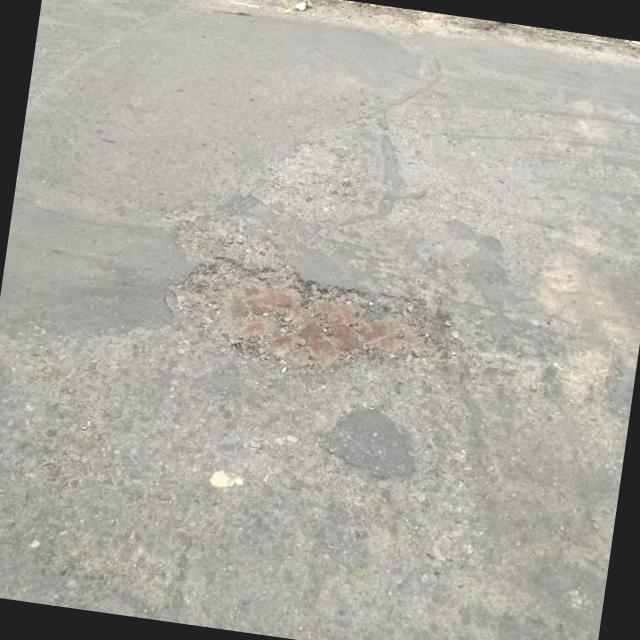pothole: (152, 248, 458, 396)
